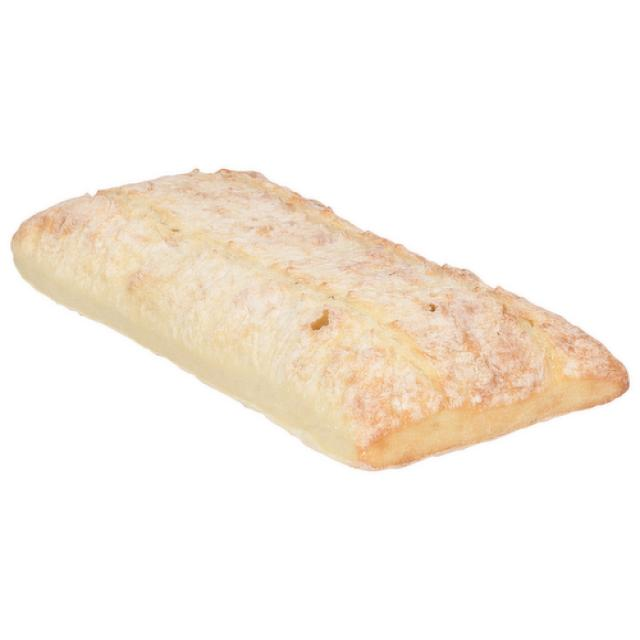Ciabatta: (14, 170, 627, 468)
